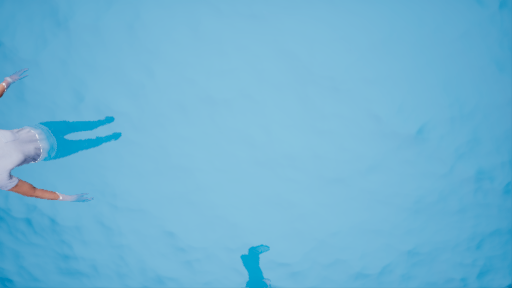person: (1, 74, 116, 208)
